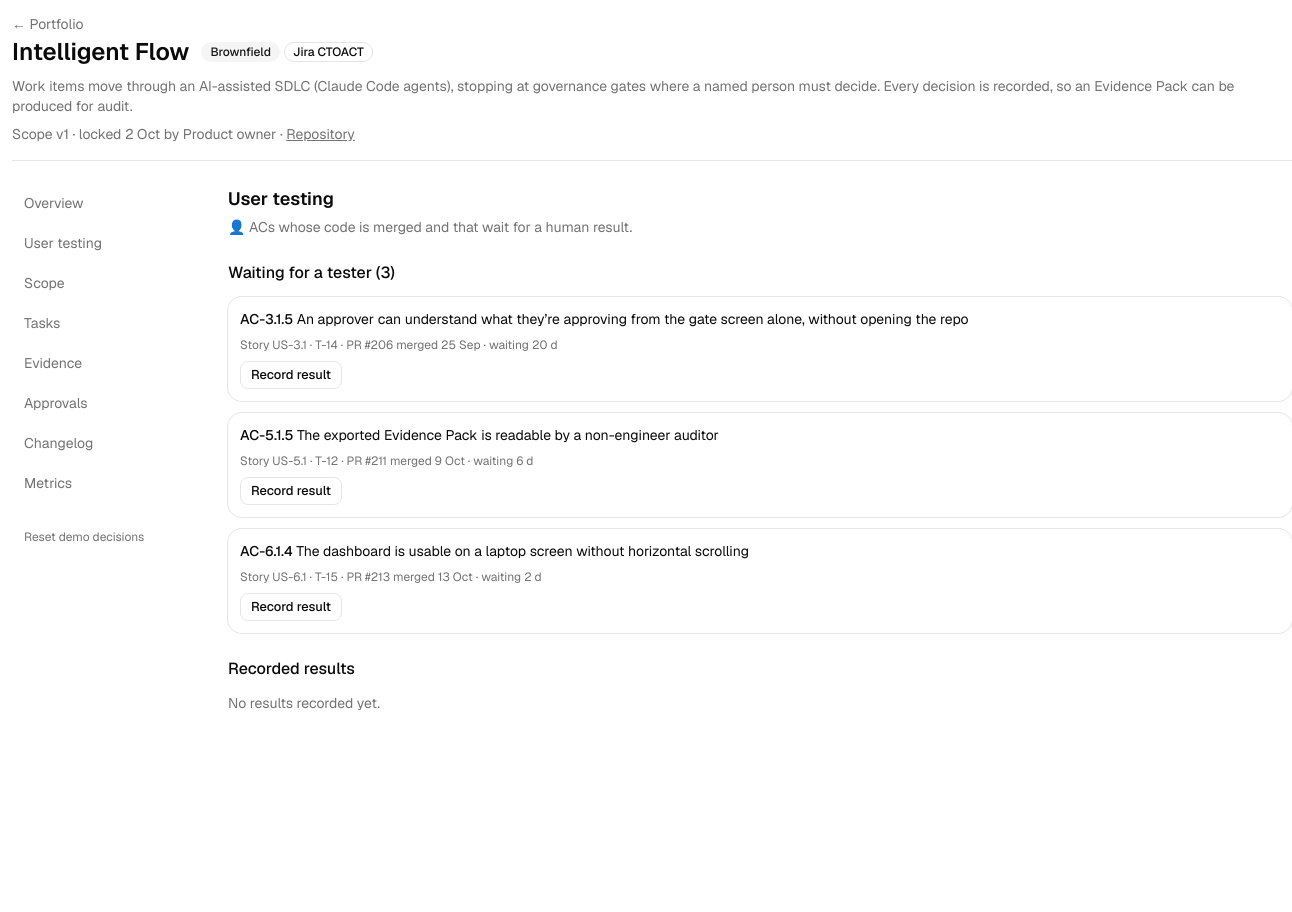
UserTestingView › needs a result, an environment and a tester
Click the button with aria-label "Record result for AC-3.1.5" at point(291, 375), box [240,361,342,389]
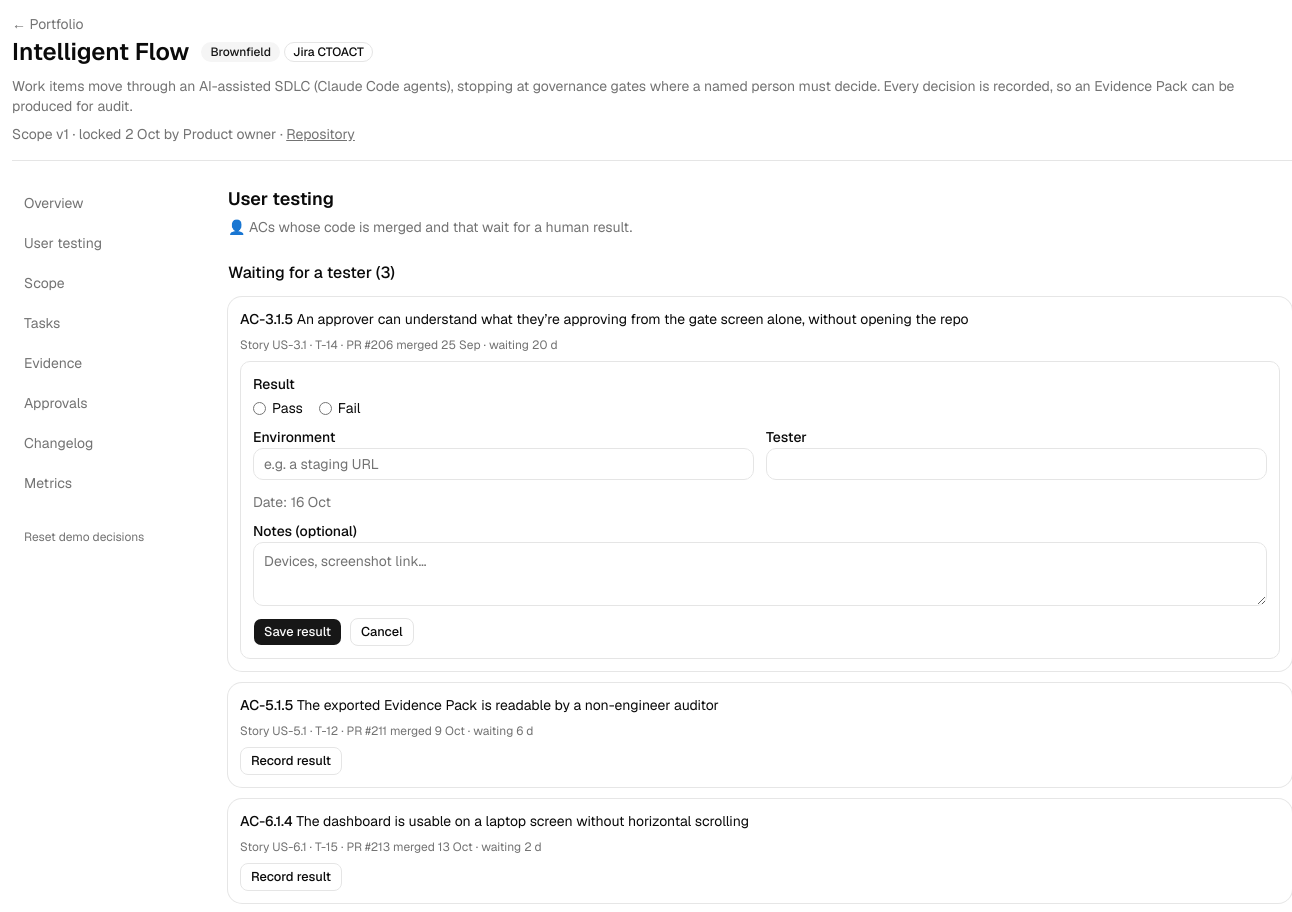
Click the button "Save result" at point(297, 632), box [253,618,342,646]
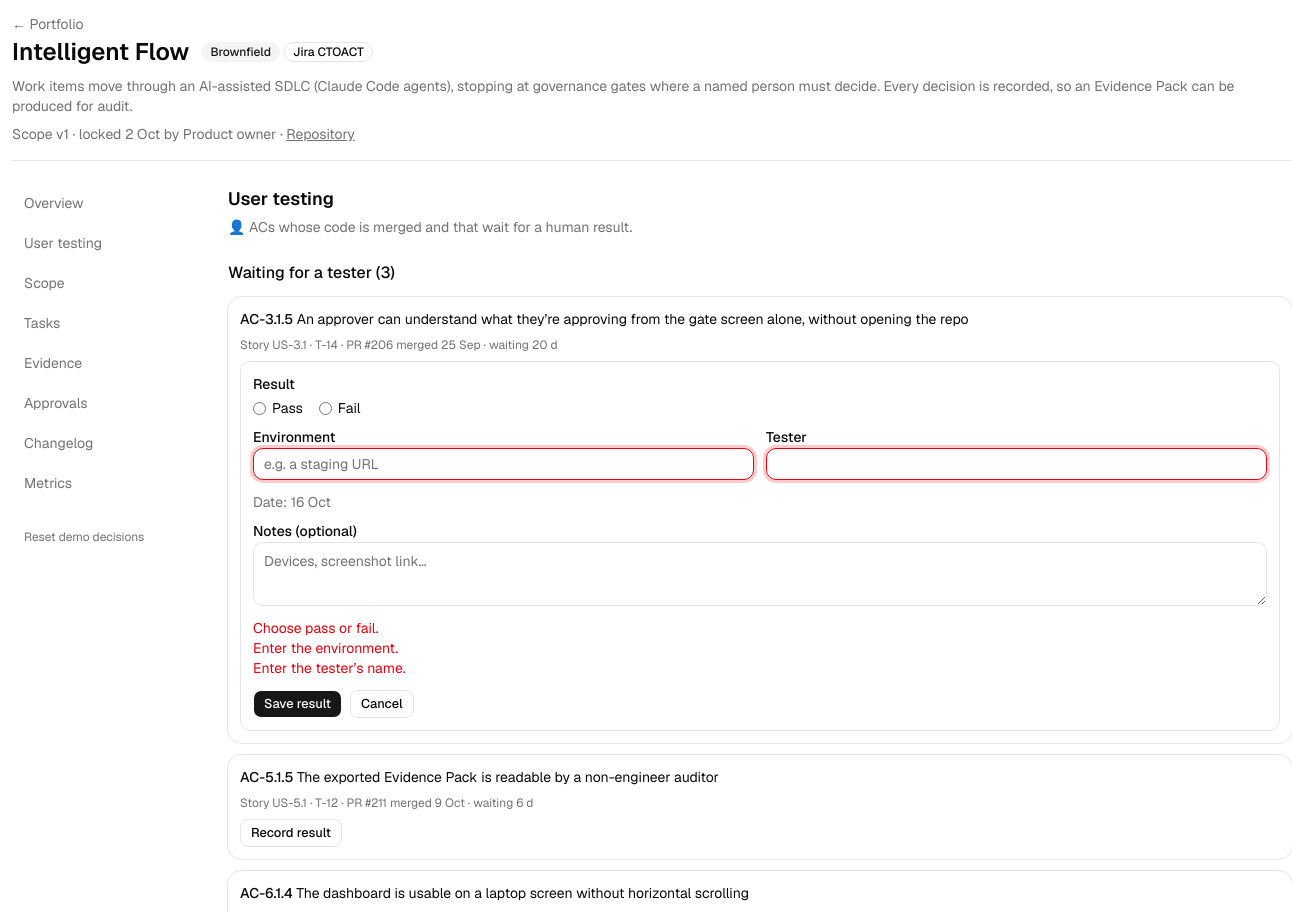
Expected: the message reads "Choose pass or fail. Enter the environment. Enter the tester’s name.", [253,619,406,677]
